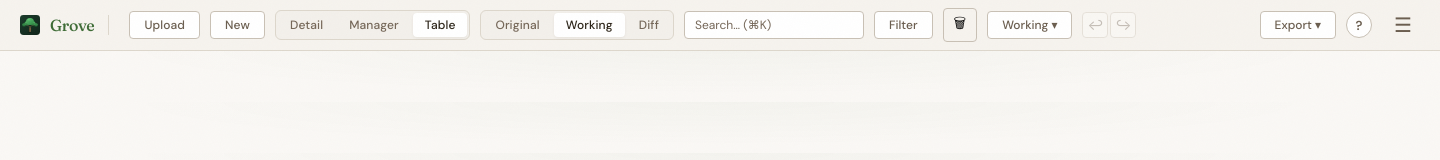
Toolbar — branch coverage › hamburger menu › hides Refresh Layout when viewMode is table
What coordinates should you click on to do the following:
click the button named "Menu"
I would click on:
 (1403, 25)
Its box is [1386, 11, 1420, 39].
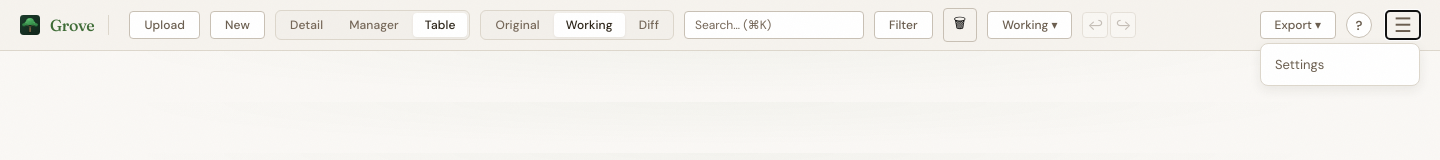
Result: the button "Settings" is shown at [1261, 48, 1419, 81]
